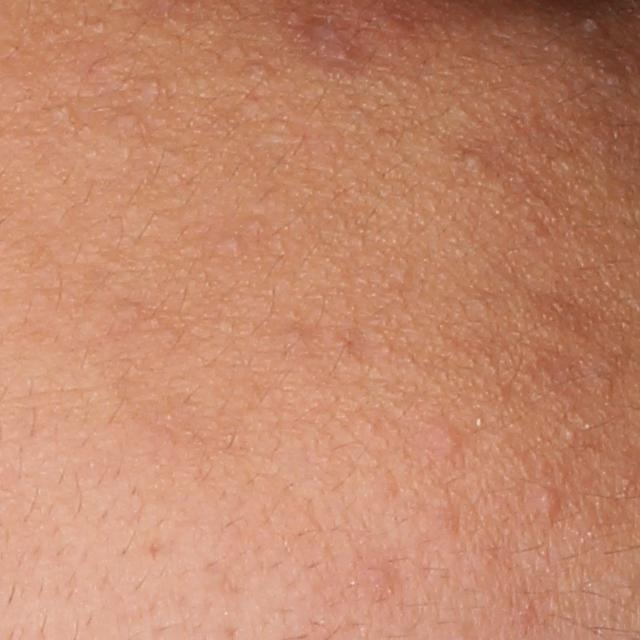comedo: (459, 150, 491, 173), (217, 235, 247, 258), (143, 77, 165, 101), (563, 426, 579, 445)
